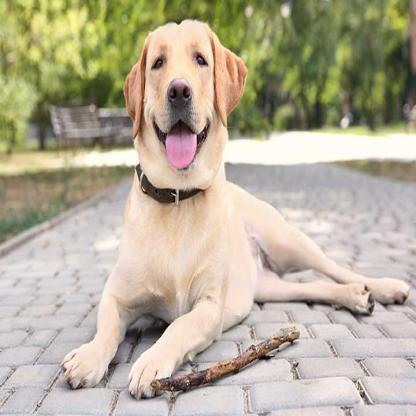Labarador Retriever: (58, 15, 405, 393)
